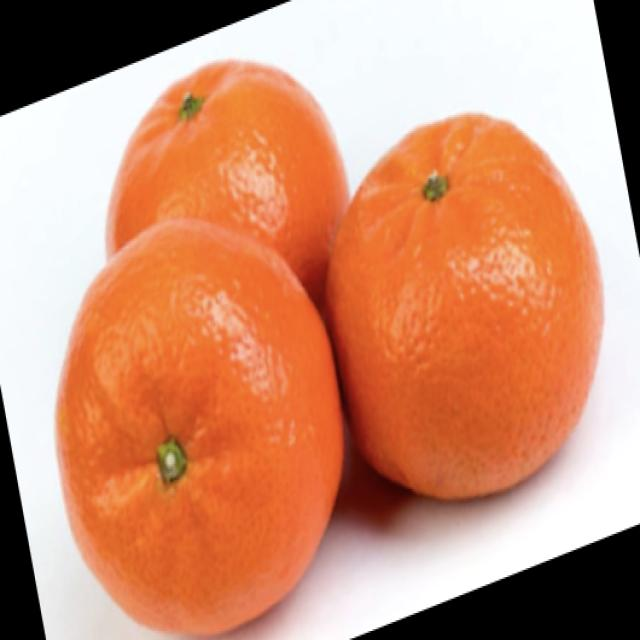orange: (39, 217, 342, 640), (331, 96, 617, 517), (97, 52, 358, 309)
